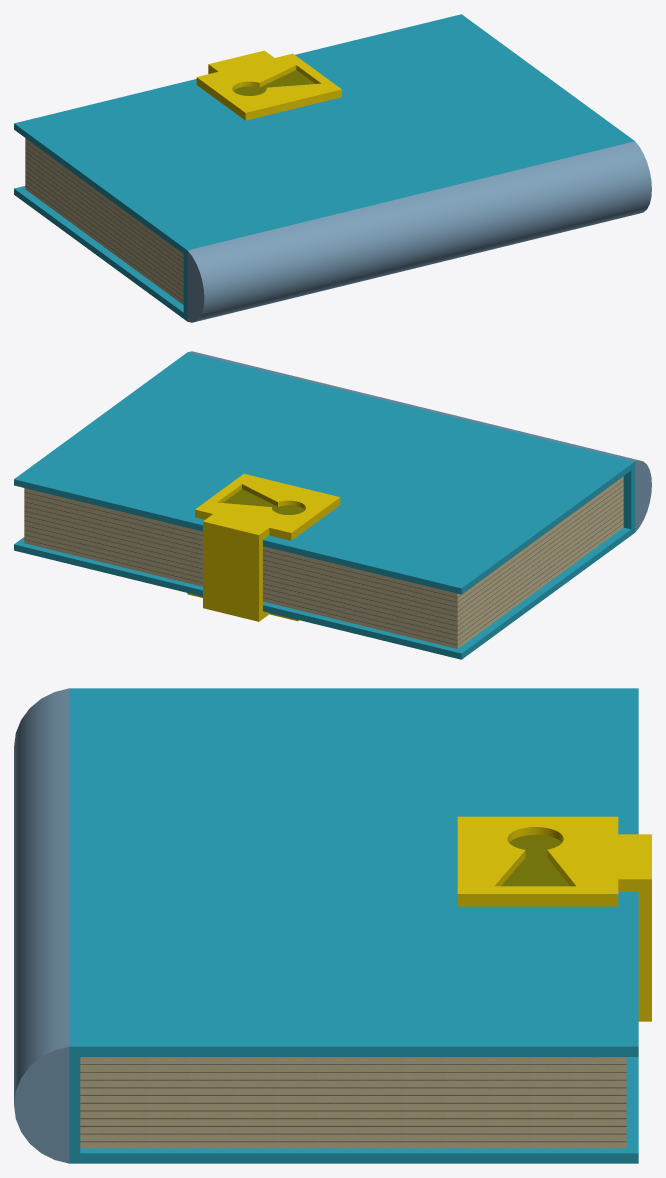
Rendered from low_poly_book.glb.
3 renders of one model, top to bottom at view 1: azimuth 30°, elevation 25°; view 2: azimuth 150°, elevation 25°; view 3: azimuth 270°, elevation 25°, orthographic. The views are drawn at different scales.
Visible parts, largest first — view 1: Material2 (×5); view 2: Material2 (×5); view 3: Material2 (×5).
Part boxes in pixels (left/top/right/bottom): Material2 (×5): left=14, top=14, right=651, bottom=322; Material2 (×5): left=14, top=351, right=651, bottom=659; Material2 (×5): left=14, top=688, right=651, bottom=1163.
Size of the model in its own units: 124 by 22.94 by 93.26.
6 materials, 1 textured.
